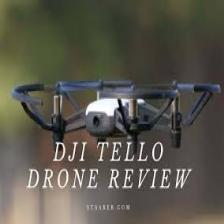drone: (13, 80, 223, 148)
